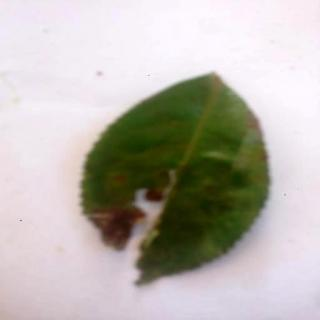Brown Blight: (82, 72, 274, 289)
